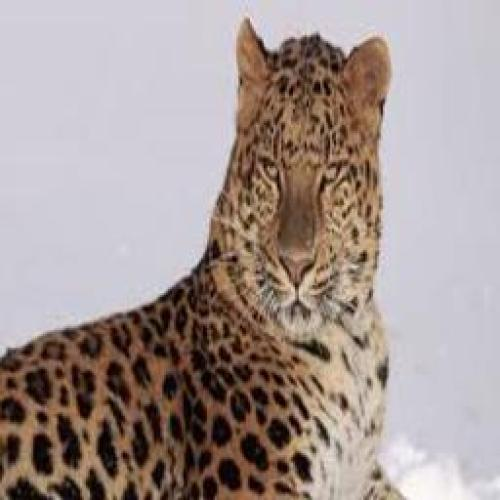amur_leopard-endangered: (4, 18, 401, 500)
